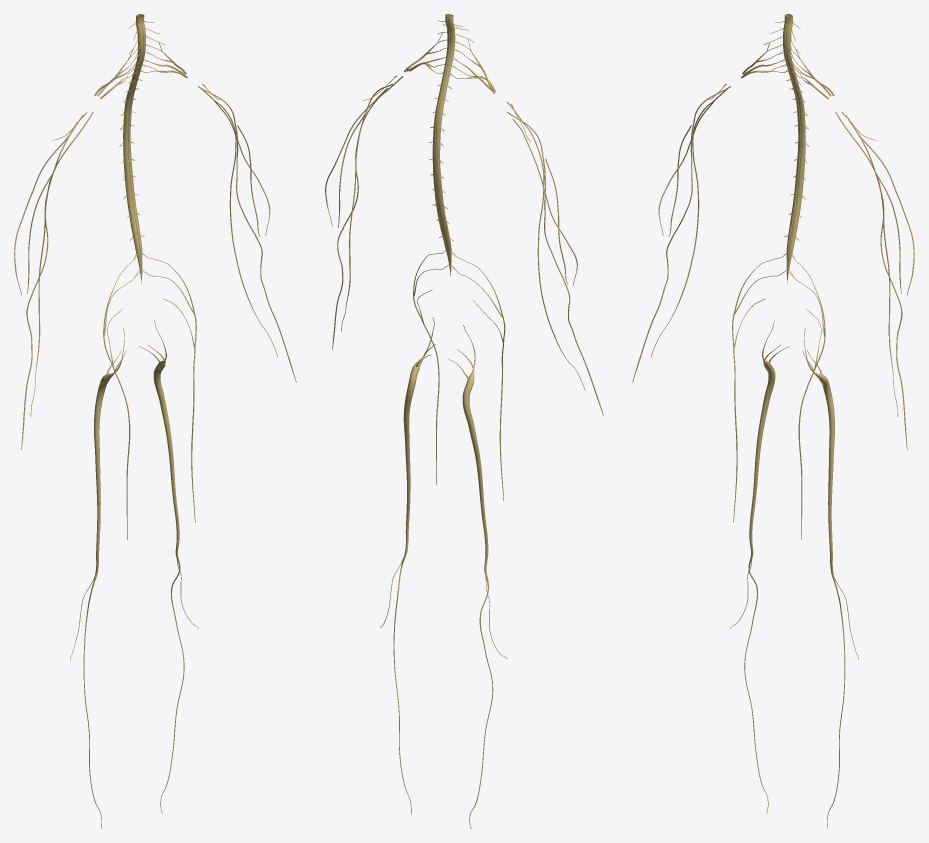
The model's file is nervous-balanced.glb.
3 renders of one model, left to right at view 1: azimuth 30°, elevation 25°; view 2: azimuth 150°, elevation 25°; view 3: azimuth 330°, elevation 25°, orthographic.
Visible parts, largest first — view 1: za.white-matter-of-spinal-cord, za.sciatic-nerve-r, za.sciatic-nerve-l, za.femoral-nerve-l, za.femoral-nerve-r, za.median-nerve-r, za.median-nerve-l; view 2: za.white-matter-of-spinal-cord, za.sciatic-nerve-r, za.sciatic-nerve-l, za.median-nerve-r, za.femoral-nerve-r; view 3: za.white-matter-of-spinal-cord, za.sciatic-nerve-l, za.sciatic-nerve-r, za.femoral-nerve-r, za.femoral-nerve-l, za.median-nerve-l, za.median-nerve-r.
Part boxes in pixels (left/top/right/bottom): za.white-matter-of-spinal-cord: left=123, top=14, right=145, bottom=283; za.sciatic-nerve-r: left=94, top=328, right=126, bottom=571; za.sciatic-nerve-l: left=139, top=320, right=179, bottom=552; za.femoral-nerve-l: left=146, top=256, right=196, bottom=522; za.femoral-nerve-r: left=103, top=259, right=133, bottom=539; za.median-nerve-r: left=21, top=115, right=83, bottom=449; za.median-nerve-l: left=202, top=88, right=296, bottom=382; za.white-matter-of-spinal-cord: left=432, top=14, right=455, bottom=276; za.sciatic-nerve-r: left=448, top=324, right=488, bottom=568; za.sciatic-nerve-l: left=403, top=317, right=435, bottom=548; za.median-nerve-r: left=507, top=111, right=603, bottom=415; za.femoral-nerve-r: left=455, top=255, right=505, bottom=500; za.white-matter-of-spinal-cord: left=783, top=14, right=805, bottom=283; za.sciatic-nerve-l: left=802, top=328, right=834, bottom=571; za.sciatic-nerve-r: left=749, top=320, right=789, bottom=552; za.femoral-nerve-r: left=732, top=256, right=782, bottom=522; za.femoral-nerve-l: left=795, top=259, right=825, bottom=539; za.median-nerve-l: left=845, top=115, right=907, bottom=449; za.median-nerve-r: left=632, top=87, right=728, bottom=382.
Size of the model in its own units: 0.5279 by 1.49 by 0.1209.
